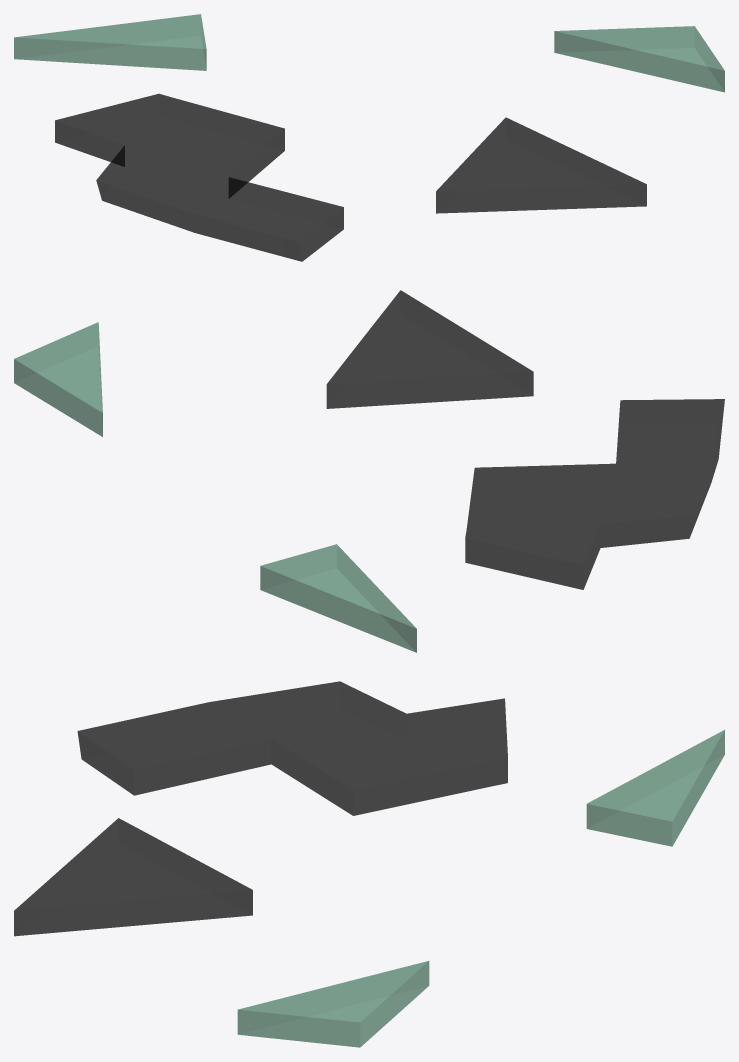
The model's file is PetriFragments003.FBX.
The picture shows the model from 3 angles, top to bottom: view 1: azimuth 30°, elevation 25°; view 2: azimuth 150°, elevation 25°; view 3: azimuth 270°, elevation 25°; orthographic projection. The views are drawn at different scales.
Visible parts, largest first — view 1: Object003; view 2: Object003; view 3: Object003.
Boxes of the visible parts, left/top/right/bottom form: Object003: left=14, top=14, right=724, bottom=261; Object003: left=14, top=290, right=724, bottom=652; Object003: left=14, top=681, right=724, bottom=1047.
Size of the model in its own units: 50.87 by 1.78 by 44.84.
